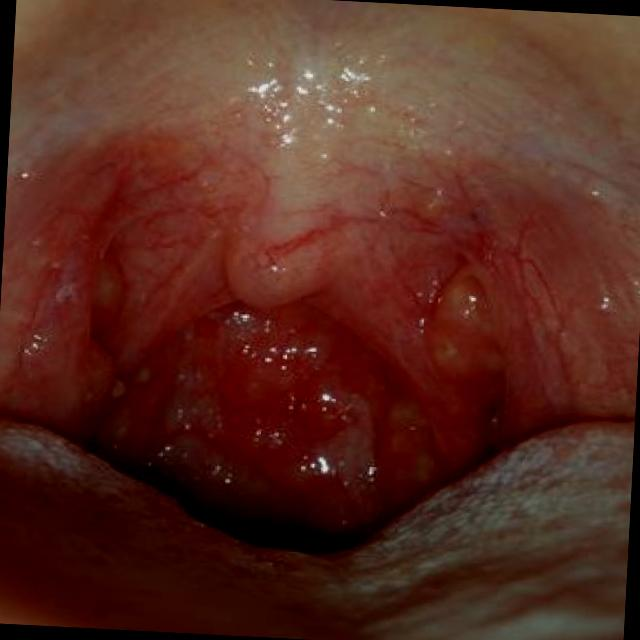Non Pharyngitis: (44, 192, 514, 536)
